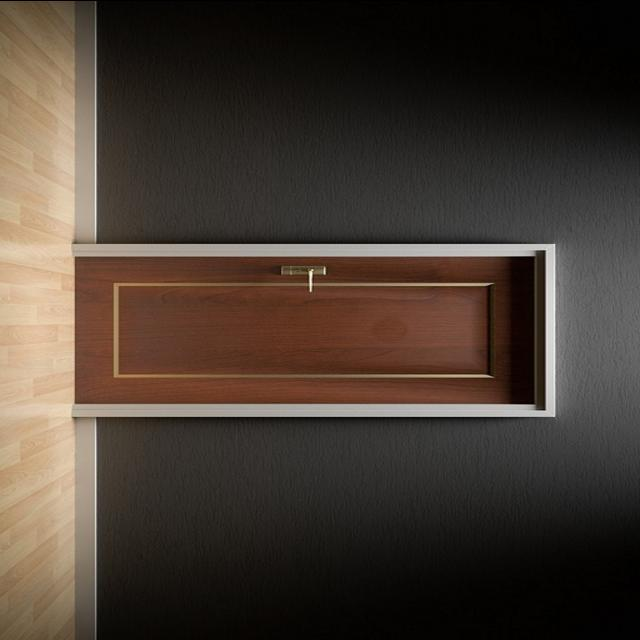close: (70, 252, 544, 410)
